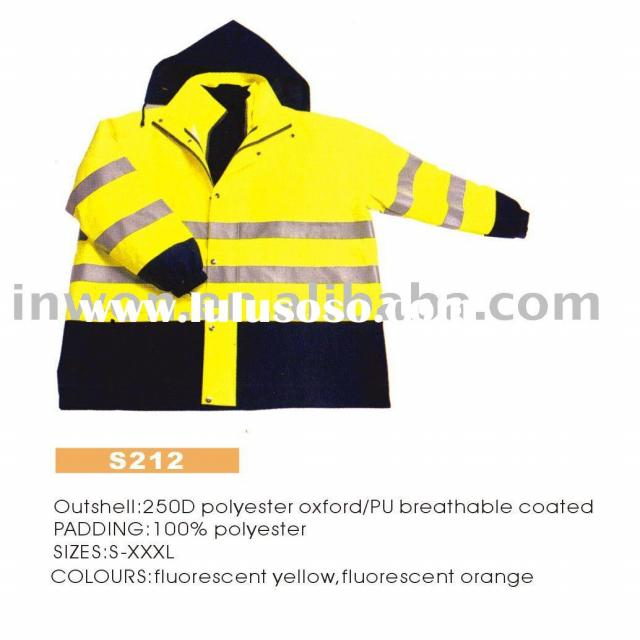Reflective-Jacket: (64, 79, 496, 322)
